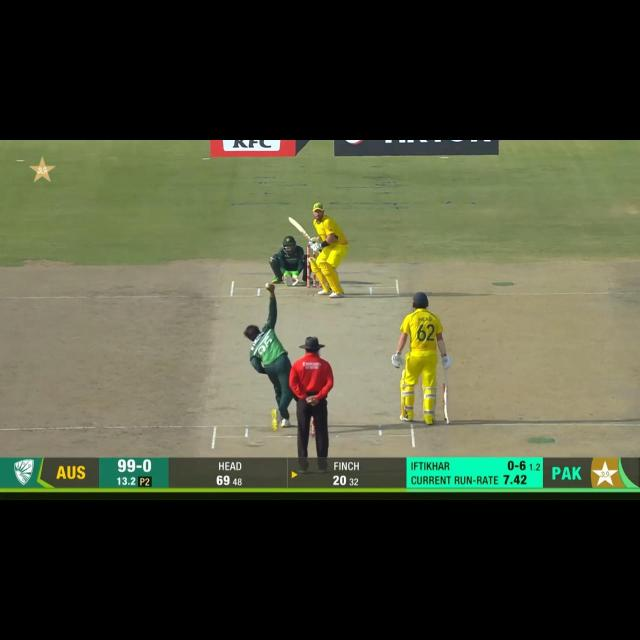bat: (287, 217, 310, 239), (442, 382, 448, 425)
toe: (285, 214, 297, 227), (443, 412, 451, 424)
